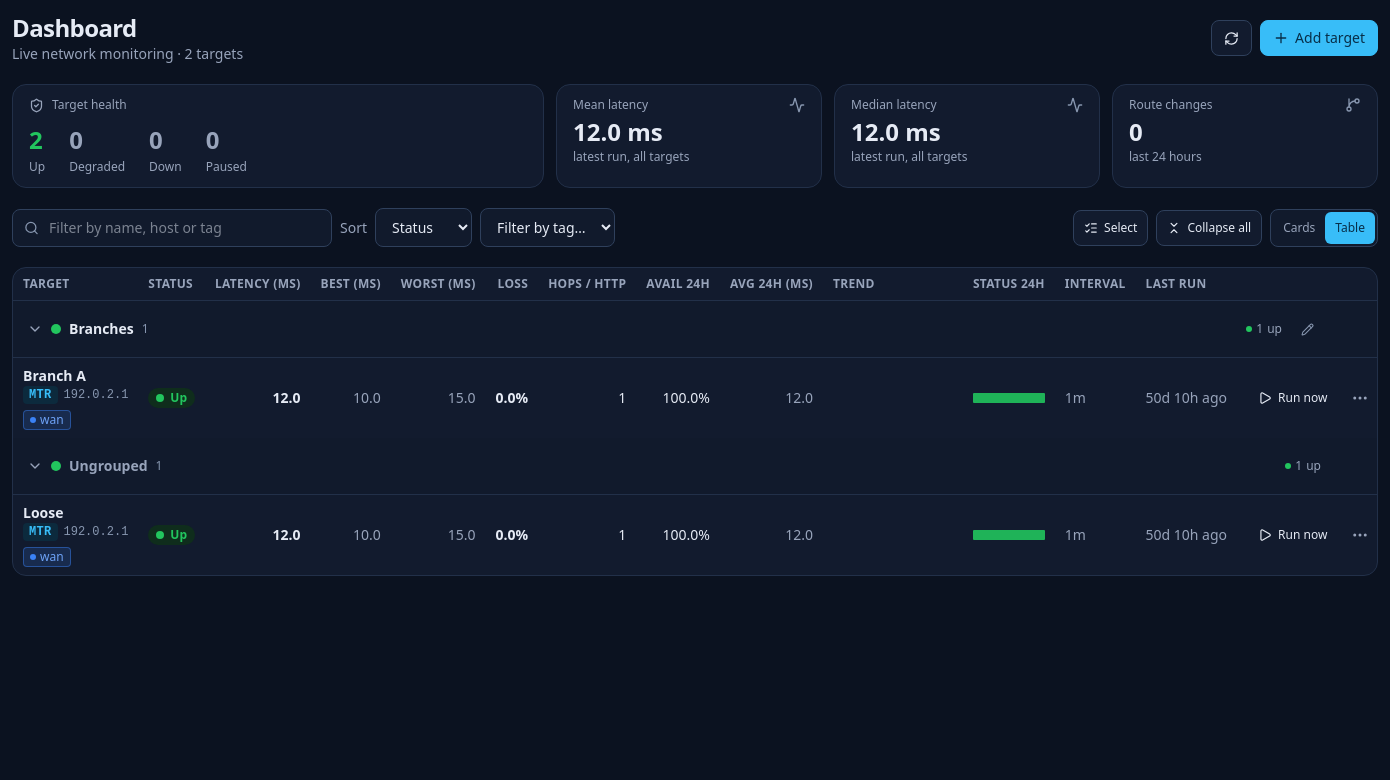
dashboard › groups the table view under the same headings
Expected: the link "Branch A" is shown, [23,366,86,385]
Click the button "Branches 1 1 up" at (101, 328), box [23,309,1286,349]
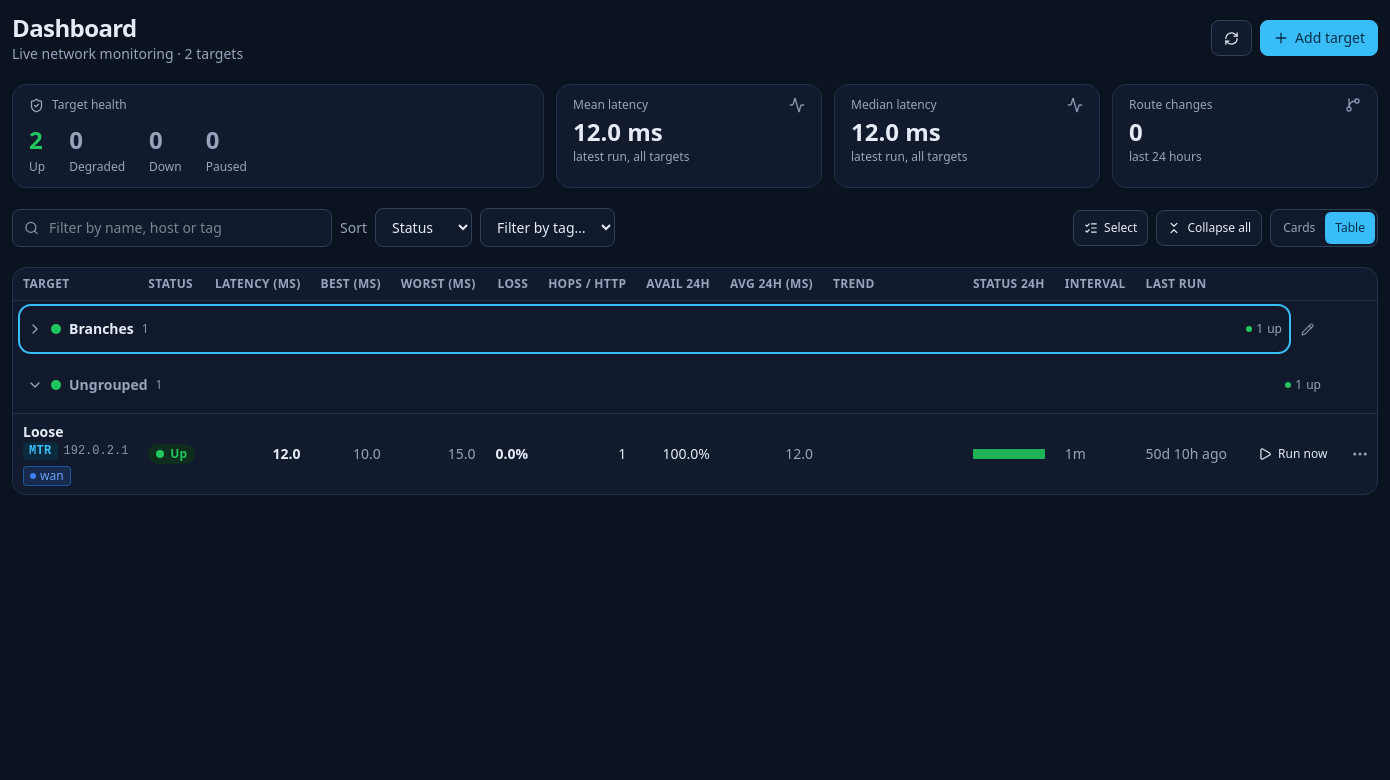
Expected: the link "Loose" is shown, [23,422,64,441]
Now the link "Branch A" is gone
